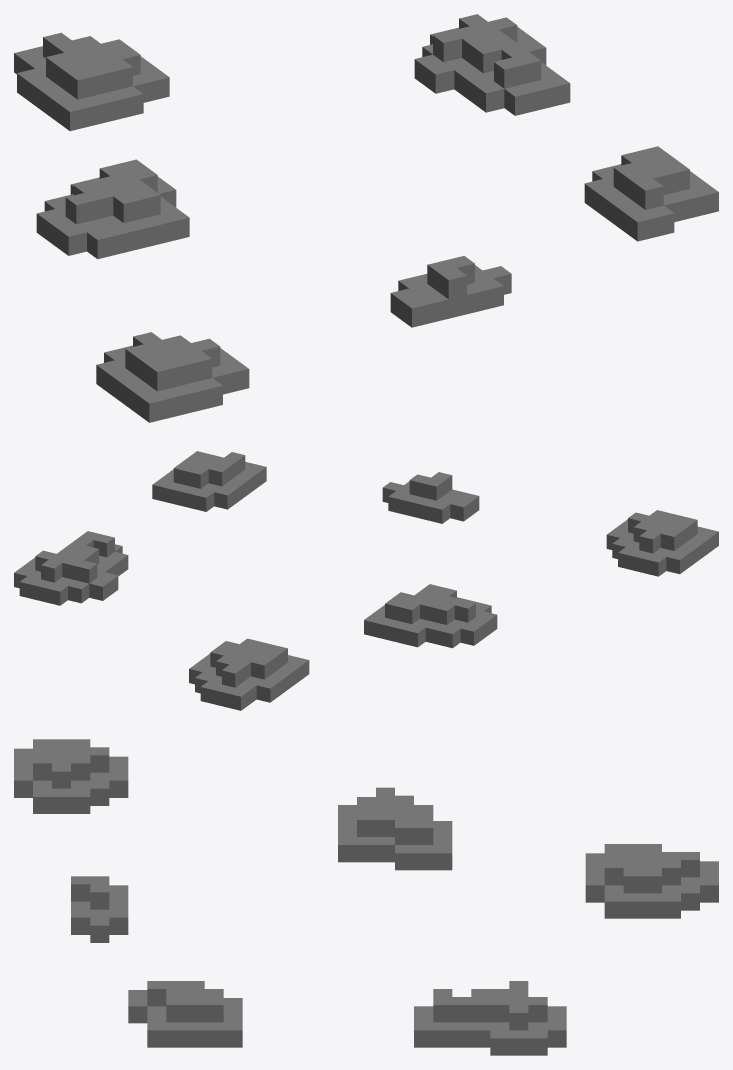
Rendered from Small Rocks 2.obj.
The picture shows the model from 3 angles, top to bottom: view 1: azimuth 30°, elevation 25°; view 2: azimuth 150°, elevation 25°; view 3: azimuth 270°, elevation 25°; orthographic projection. The views are drawn at different scales.
Parts seen in each view (by area): view 1: Small Rocks 2; view 2: Small Rocks 2; view 3: Small Rocks 2.
Part boxes in pixels (box(x1,y1,x2,y2)): Small Rocks 2: box(14, 14, 718, 422); Small Rocks 2: box(14, 451, 718, 710); Small Rocks 2: box(14, 739, 718, 1055).
Bounding box in the file's own units: 36 × 2 × 37.
